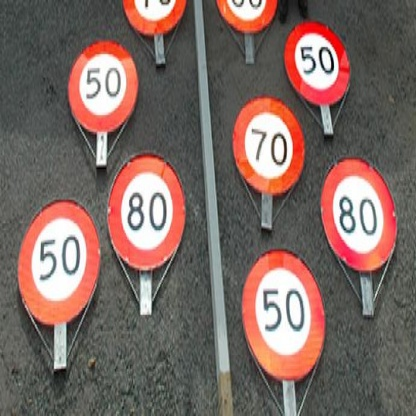limit2: (233, 248, 333, 384), (16, 196, 101, 329), (100, 151, 186, 273), (319, 153, 399, 272), (229, 96, 307, 196), (64, 38, 139, 136), (278, 19, 356, 106), (118, 1, 193, 36), (214, 1, 279, 33)
